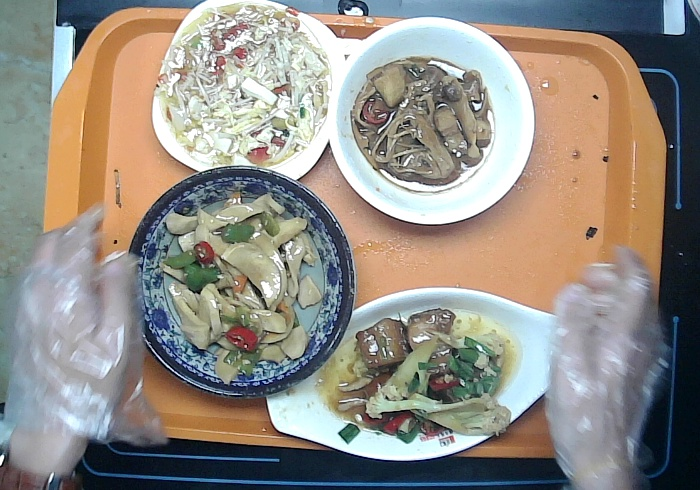ZNLD-Qing_Hua_Wan: (130, 165, 358, 402)
ZNLD-Si_Fang_Wan: (149, 3, 346, 200)
ZNLD-Tang_Wan: (326, 12, 535, 230)
ZNLD-Yu_Pan: (261, 284, 570, 461)
